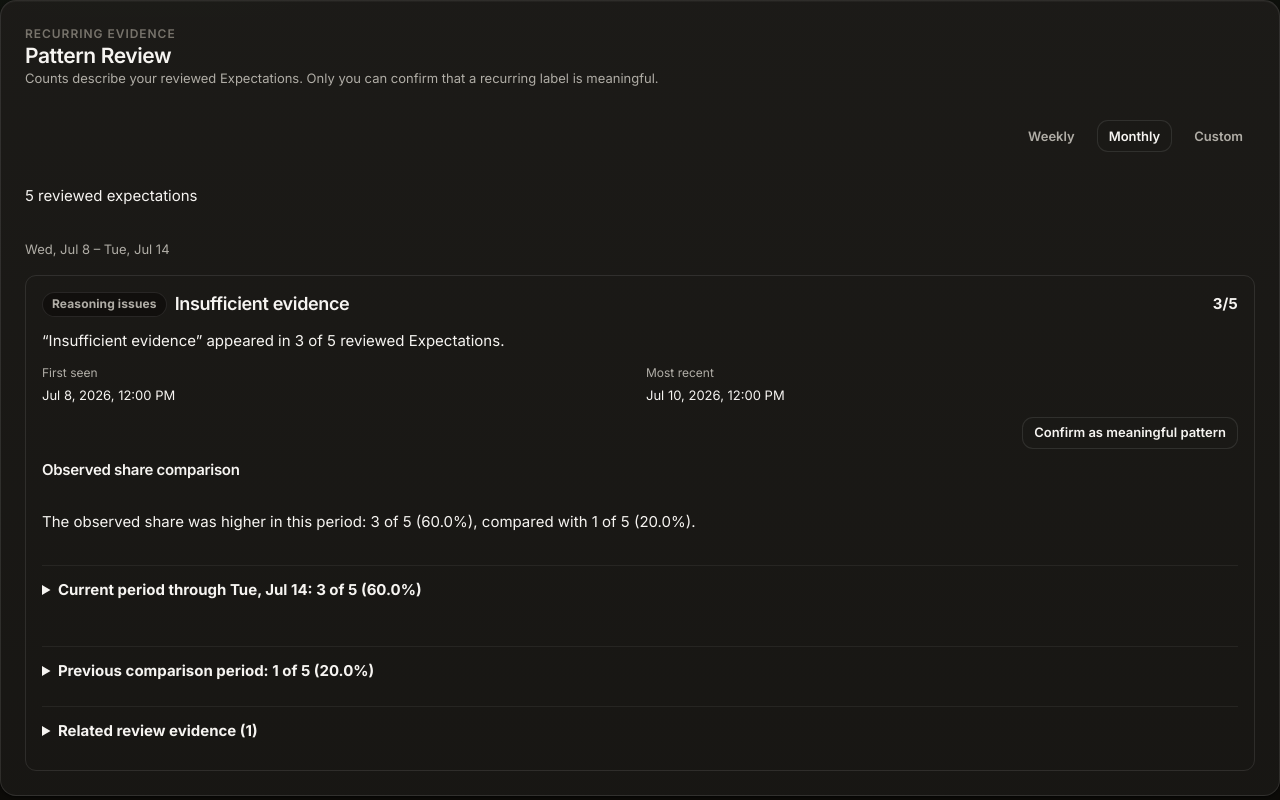
Test case: shows a supported trend with raw shares and evidence for both windows
Expected: the text "The observed share was higher in this period: 3 of 5 (60.0%), compared with 1 of 5 (20.0%)." is shown, [42,512,696,531]
Step 1. Click the heading "Current period through Tue, Jul 14: 3 of 5 (60.0%)" → (240, 590), box [58,580,422,599]
(page scrolled)
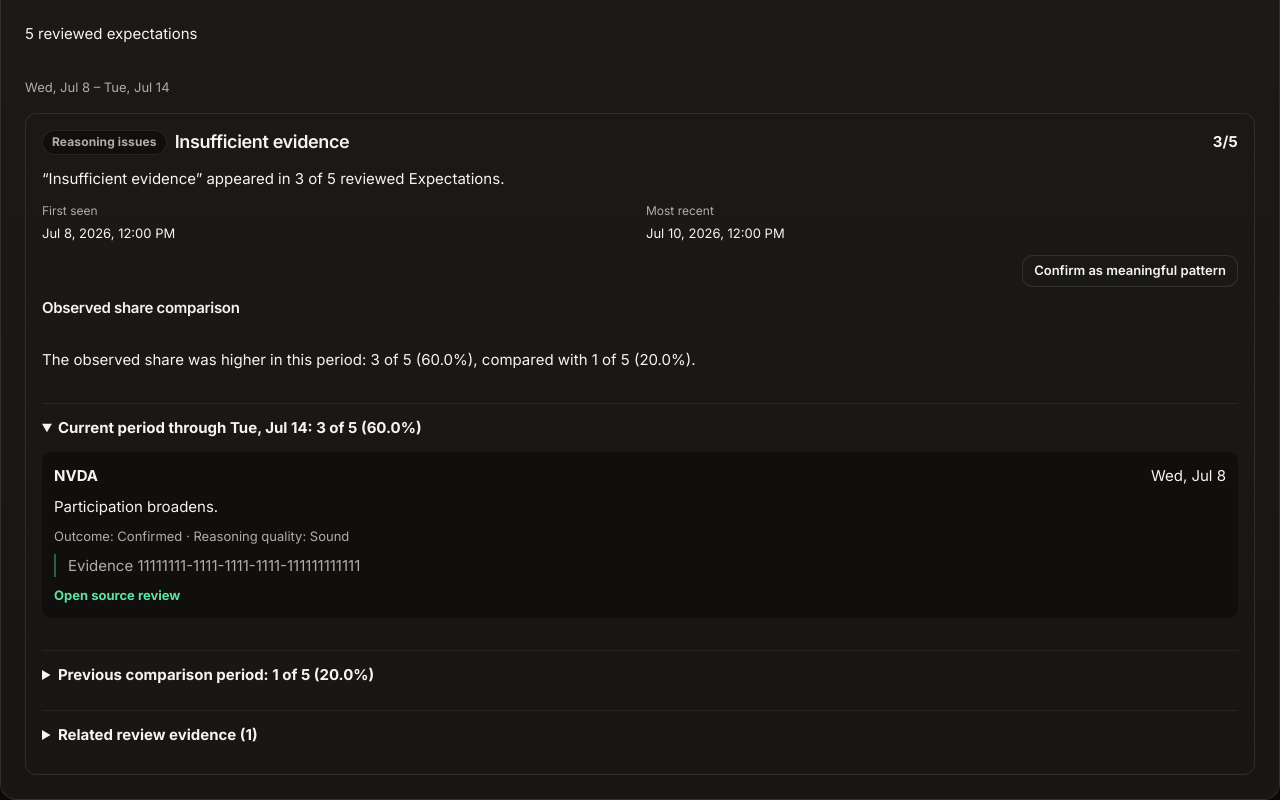
Step 2. Click the heading "Previous comparison period: 1 of 5 (20.0%)" → (216, 674), box [58,665,374,684]
(page scrolled)
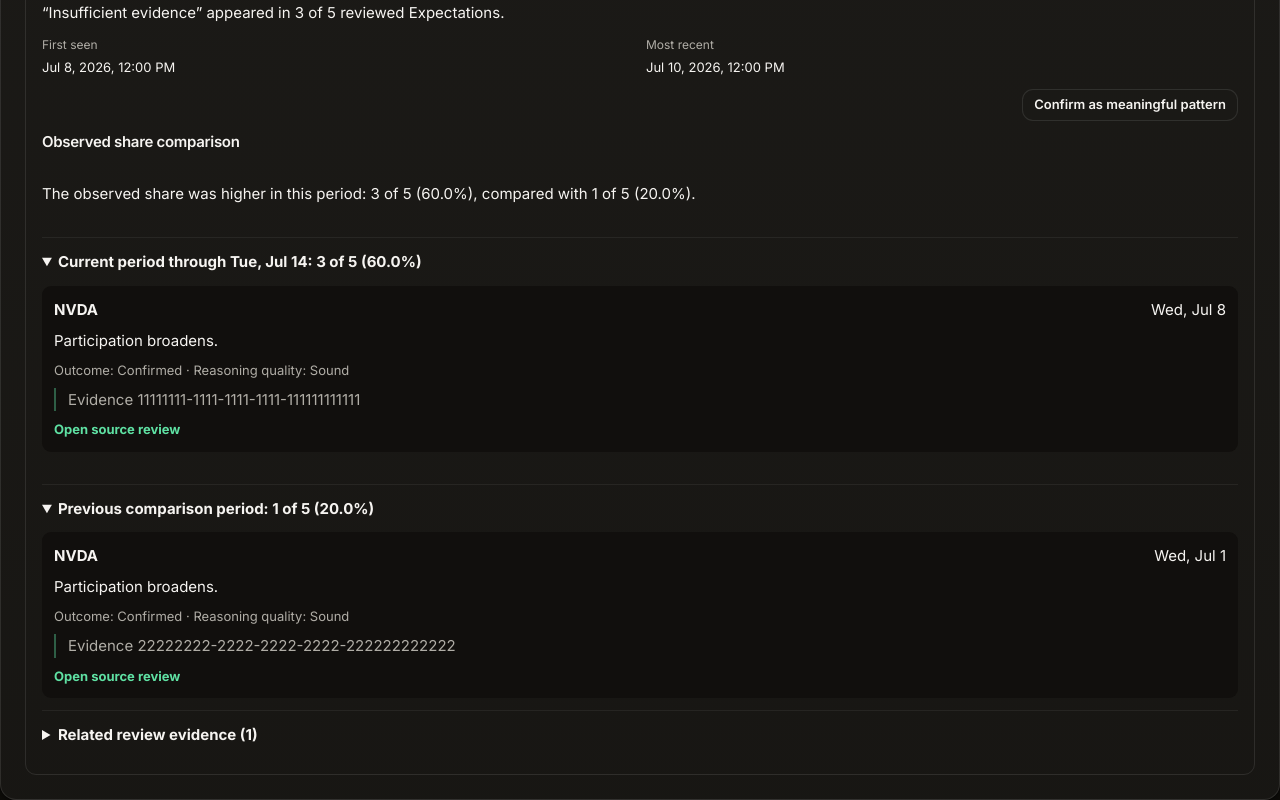
Result: the number of links "Open source review" is 3
Result: the text "Evidence 11111111-1111-1111-1111-111111111111" is shown 2 times
Result: the text "Evidence 22222222-2222-2222-2222-222222222222" is shown at [54,634,1226,658]
